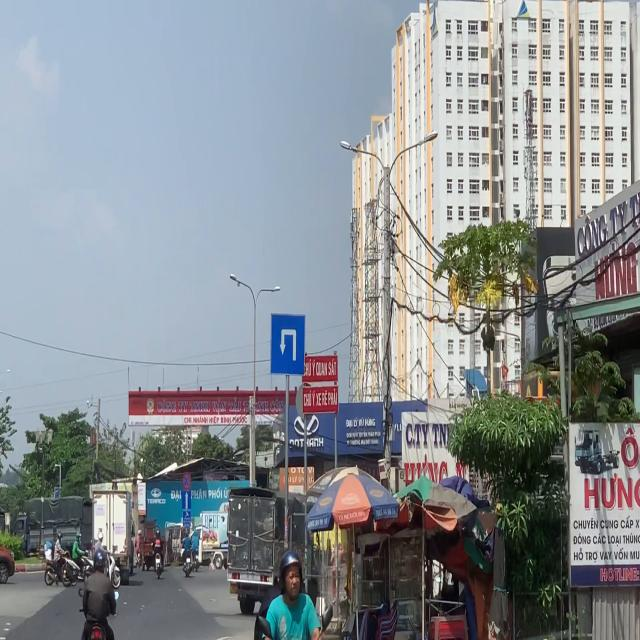Cam dung va do: (182, 472, 193, 490)
Chi dan: (271, 312, 308, 374), (181, 490, 192, 511)
